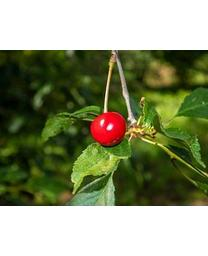cherry: (91, 111, 126, 146)
